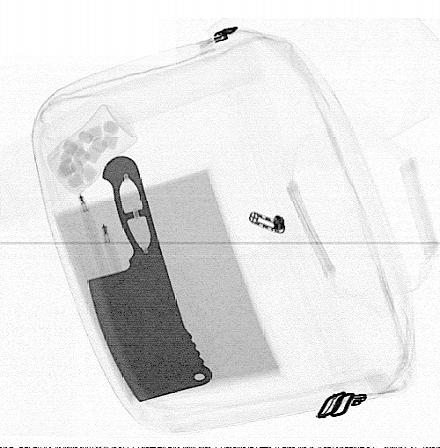Knife: (86, 153, 214, 405)
